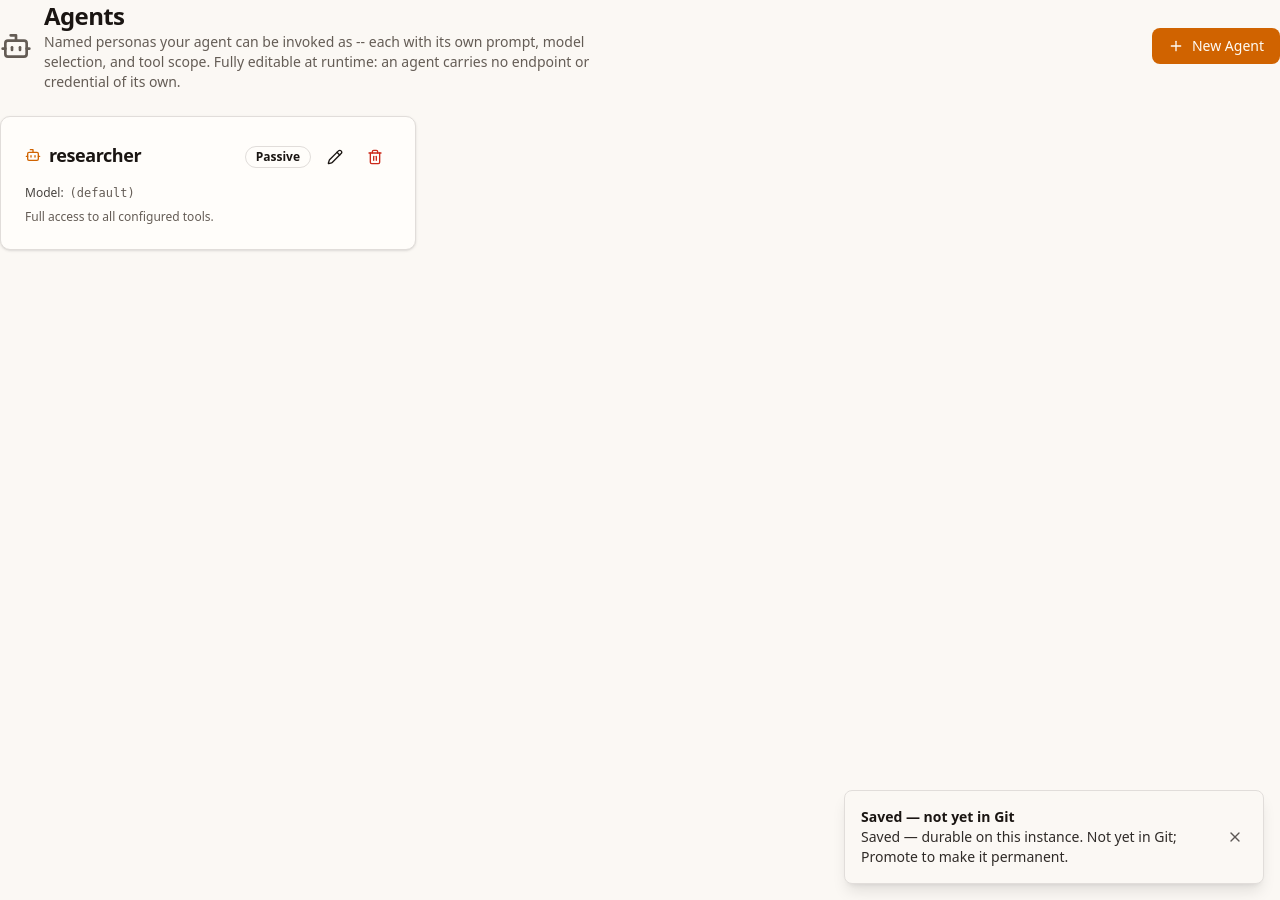
Scenario: AgentsPage delete (DELETE /v1/admin/agents/{name}) › deletes an agent after confirmation and removes it from the list
Expected: the heading "researcher" is shown, [49,141,141,169]
Click the button named "delete agent".
click(375, 157)  # box [359,141,391,173]
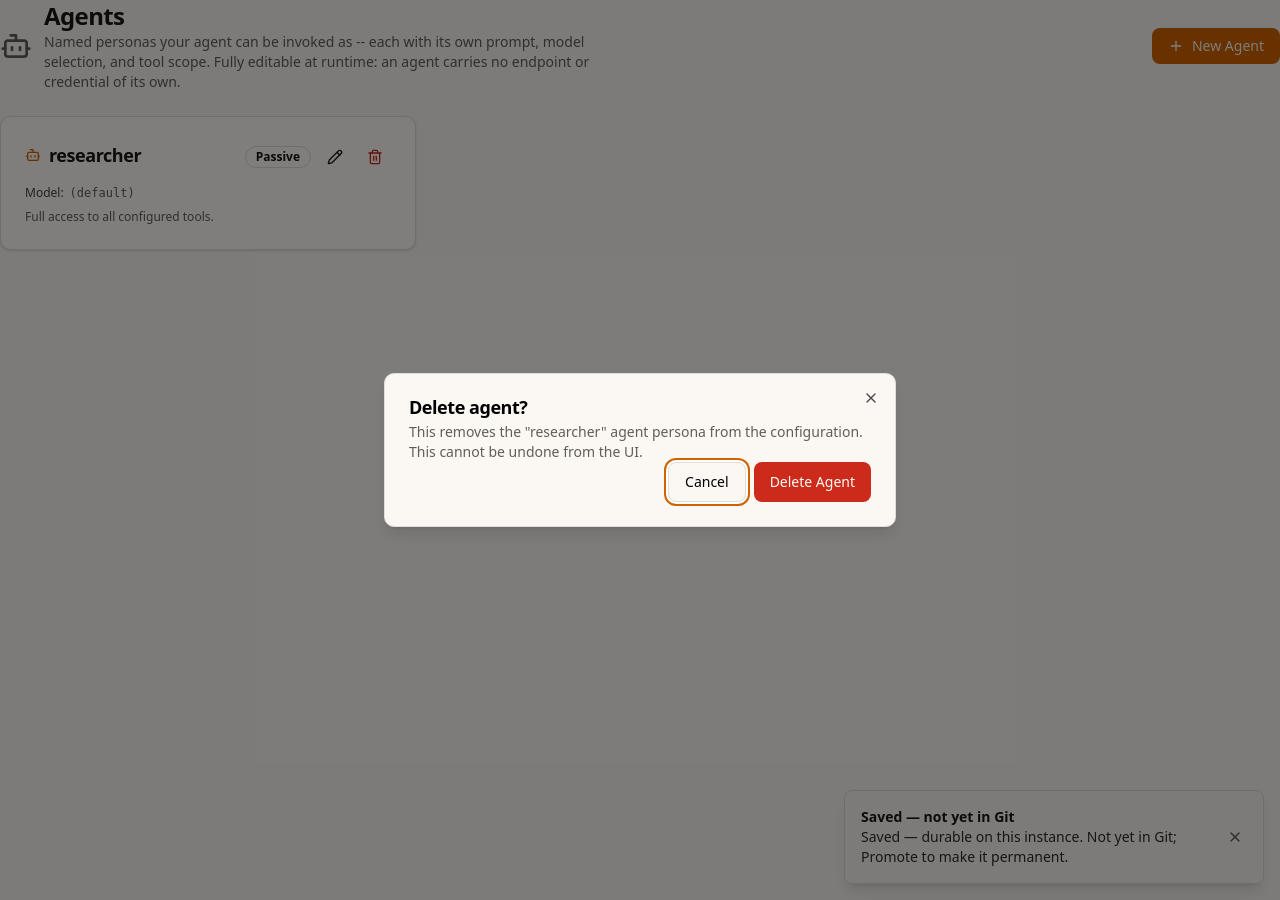
Expected: the heading "Delete agent?" is shown, [409,395,528,419]
Click the button "Delete Agent".
click(812, 482)  # box [754,462,871,502]
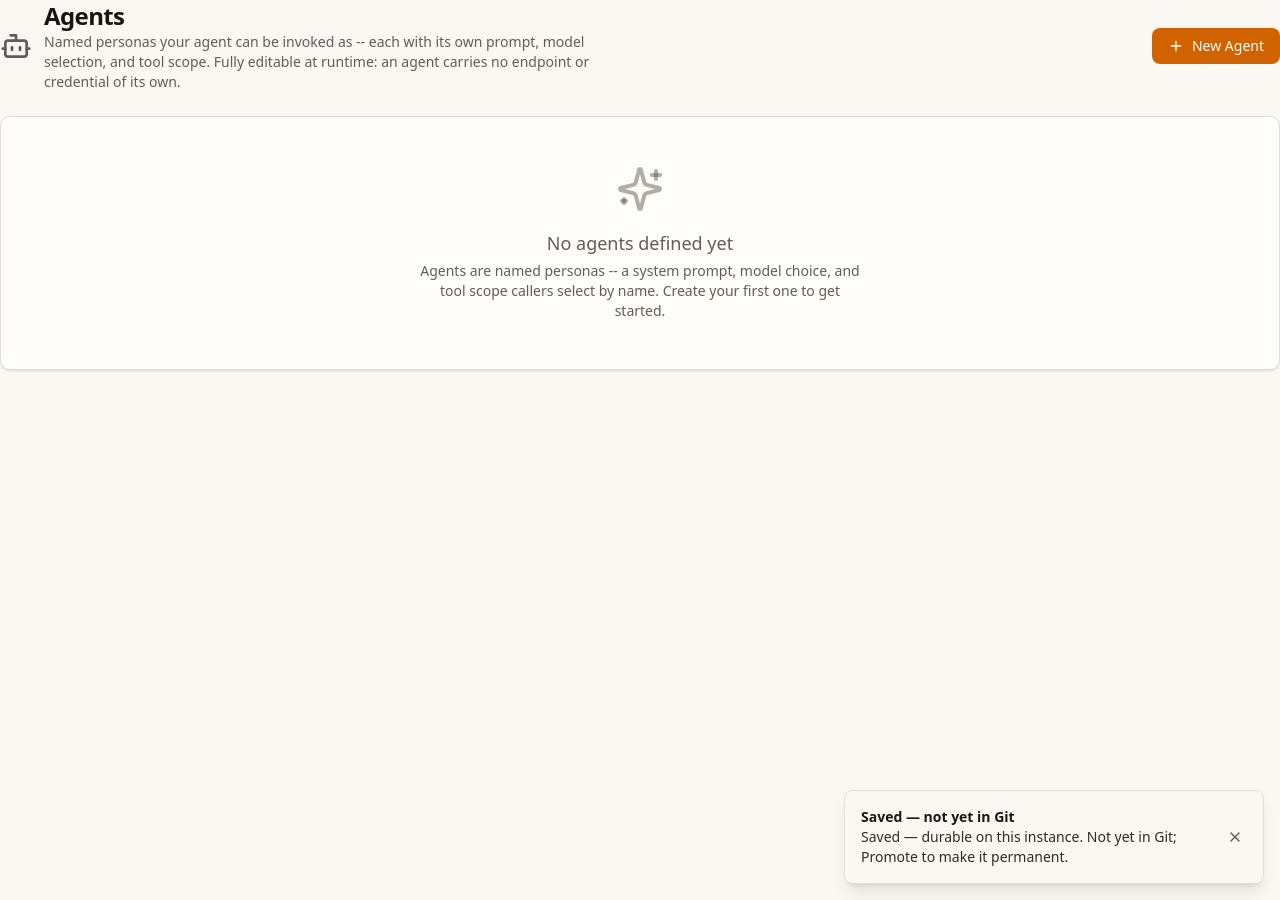
Expected: the text "No agents defined yet" is shown, [547,231,733,255]
